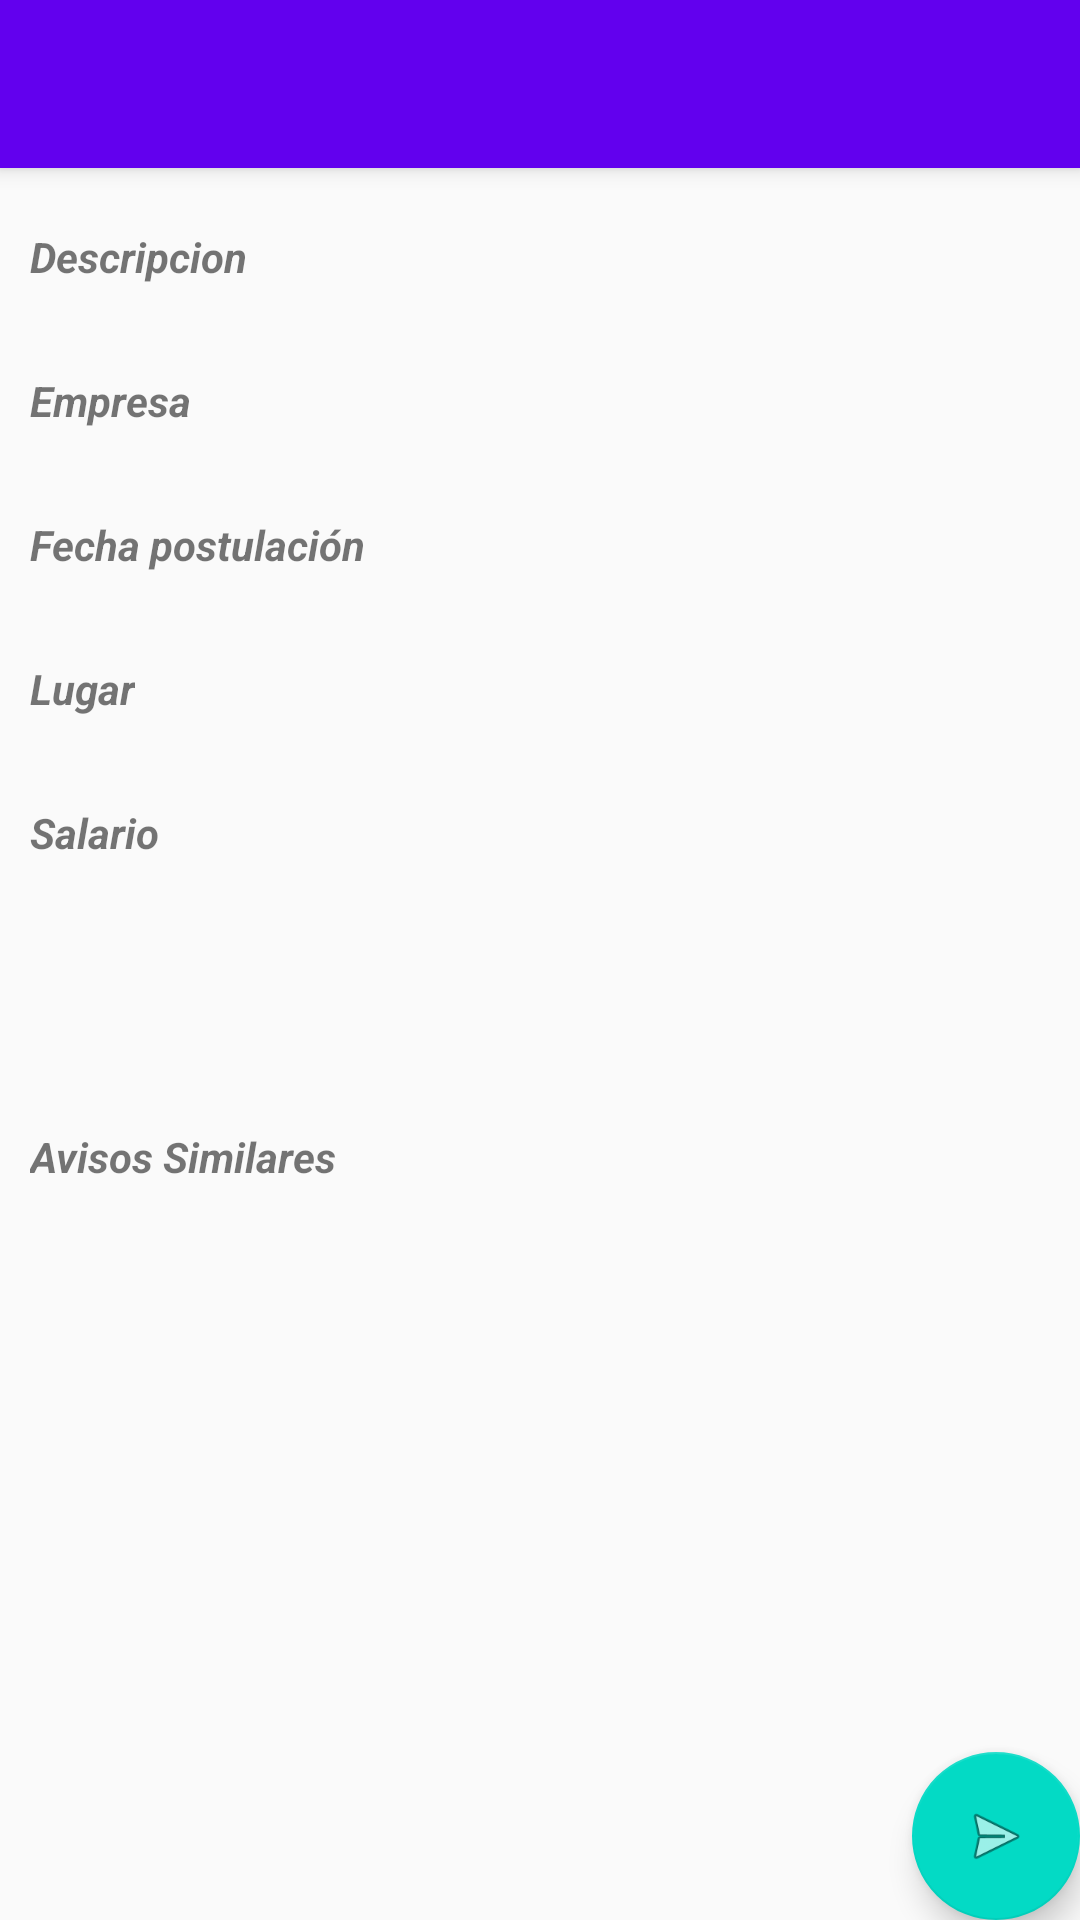

Icon bounding boxes for this 1080px×1920px phone screenshot, format (x1, y1, x2, y2):
send: (912, 1752, 1080, 1920)
